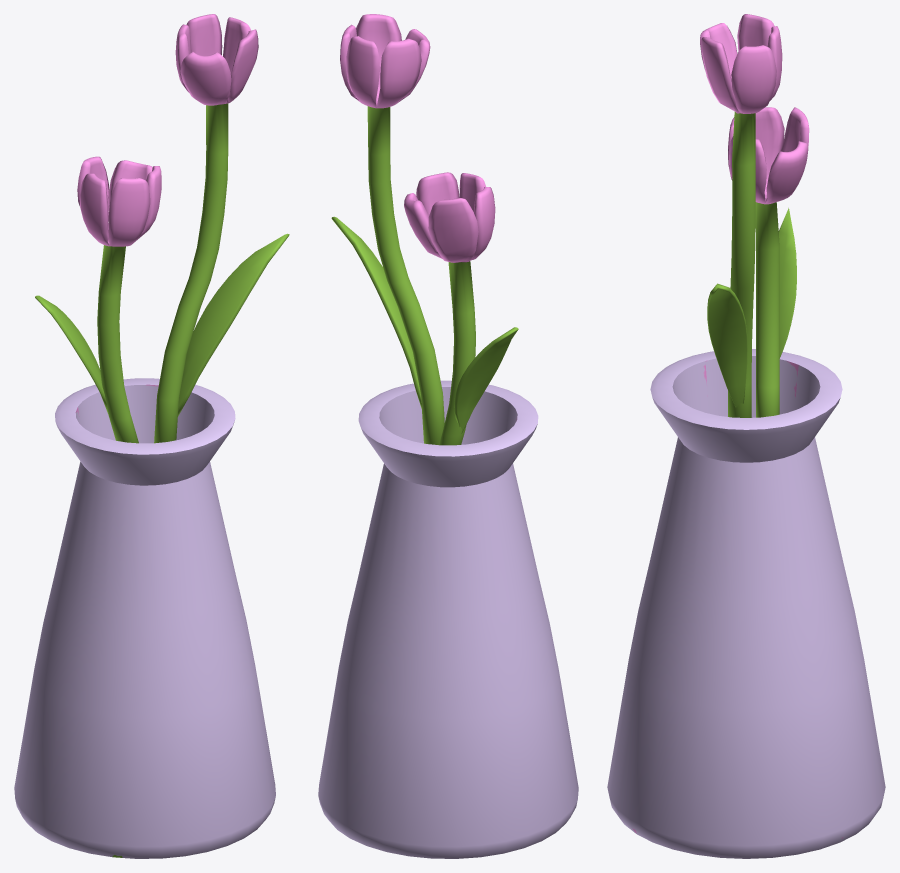
Rendered from TulipV2.fbx.
3 renders of one model, left to right at view 1: azimuth 30°, elevation 25°; view 2: azimuth 150°, elevation 25°; view 3: azimuth 270°, elevation 25°, orthographic. The views are drawn at different scales.
Visible parts, largest first — view 1: Cylinder, Cylinder.002, Cylinder.001, Cube.001, Cube; view 2: Cylinder, Cylinder.002, Cylinder.001, Cube, Cube.001; view 3: Cylinder, Cylinder.002, Cylinder.001, Cube.001, Cube.
Part boxes in pixels (x1,y1,x2,y2): Cylinder: (14, 378, 275, 858); Cylinder.002: (154, 14, 258, 443); Cylinder.001: (77, 156, 161, 443); Cube.001: (178, 233, 289, 416); Cube: (35, 295, 108, 414); Cylinder: (318, 380, 578, 858); Cylinder.002: (340, 14, 444, 444); Cylinder.001: (404, 172, 495, 445); Cube: (454, 327, 518, 434); Cube.001: (331, 216, 421, 408); Cylinder: (607, 349, 885, 858); Cylinder.002: (700, 14, 782, 417); Cylinder.001: (728, 107, 809, 417); Cube.001: (707, 283, 747, 407); Cube: (778, 208, 796, 358).
Size of the model in its own units: 183 by 547 by 170.
